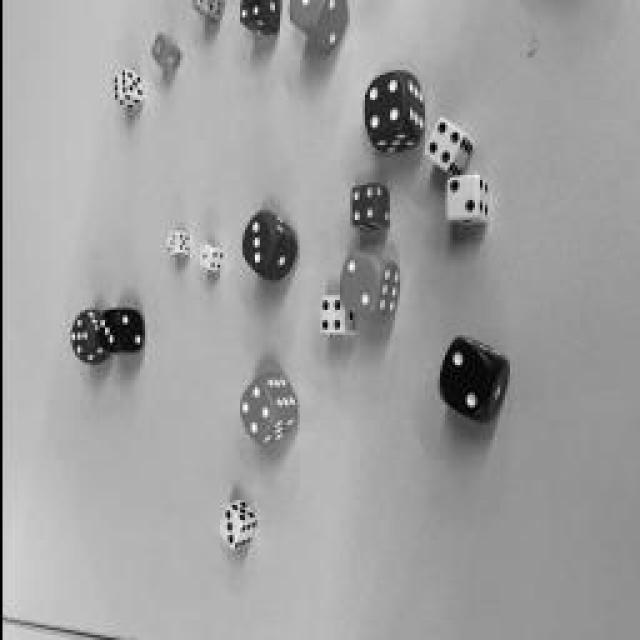dice_1: (196, 245, 209, 267)
dice_2: (436, 335, 499, 420), (338, 252, 378, 312), (443, 172, 475, 218)
dice_3: (240, 215, 270, 273), (215, 502, 240, 548), (96, 309, 114, 351), (165, 232, 175, 252)
dice_4: (362, 72, 402, 138), (421, 116, 461, 172), (238, 381, 270, 439), (348, 183, 374, 225), (318, 295, 342, 333)
dice_5: (69, 315, 86, 357)
dice_6: (110, 69, 125, 101)
